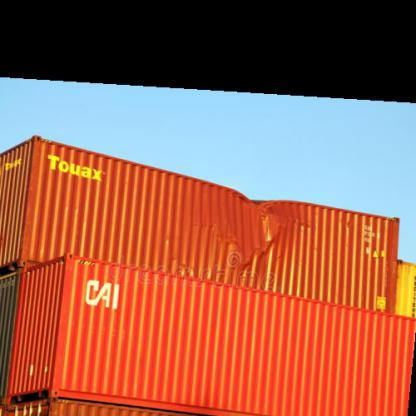Damage: (229, 184, 293, 258)
